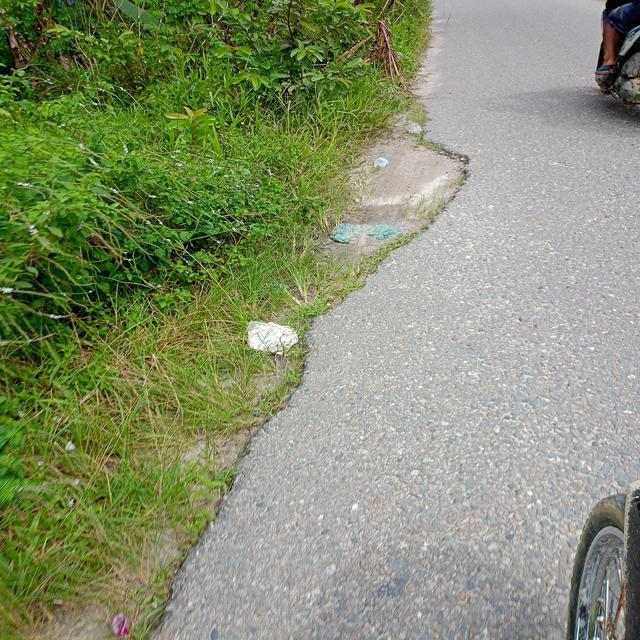Pinggir: (90, 93, 508, 640)
